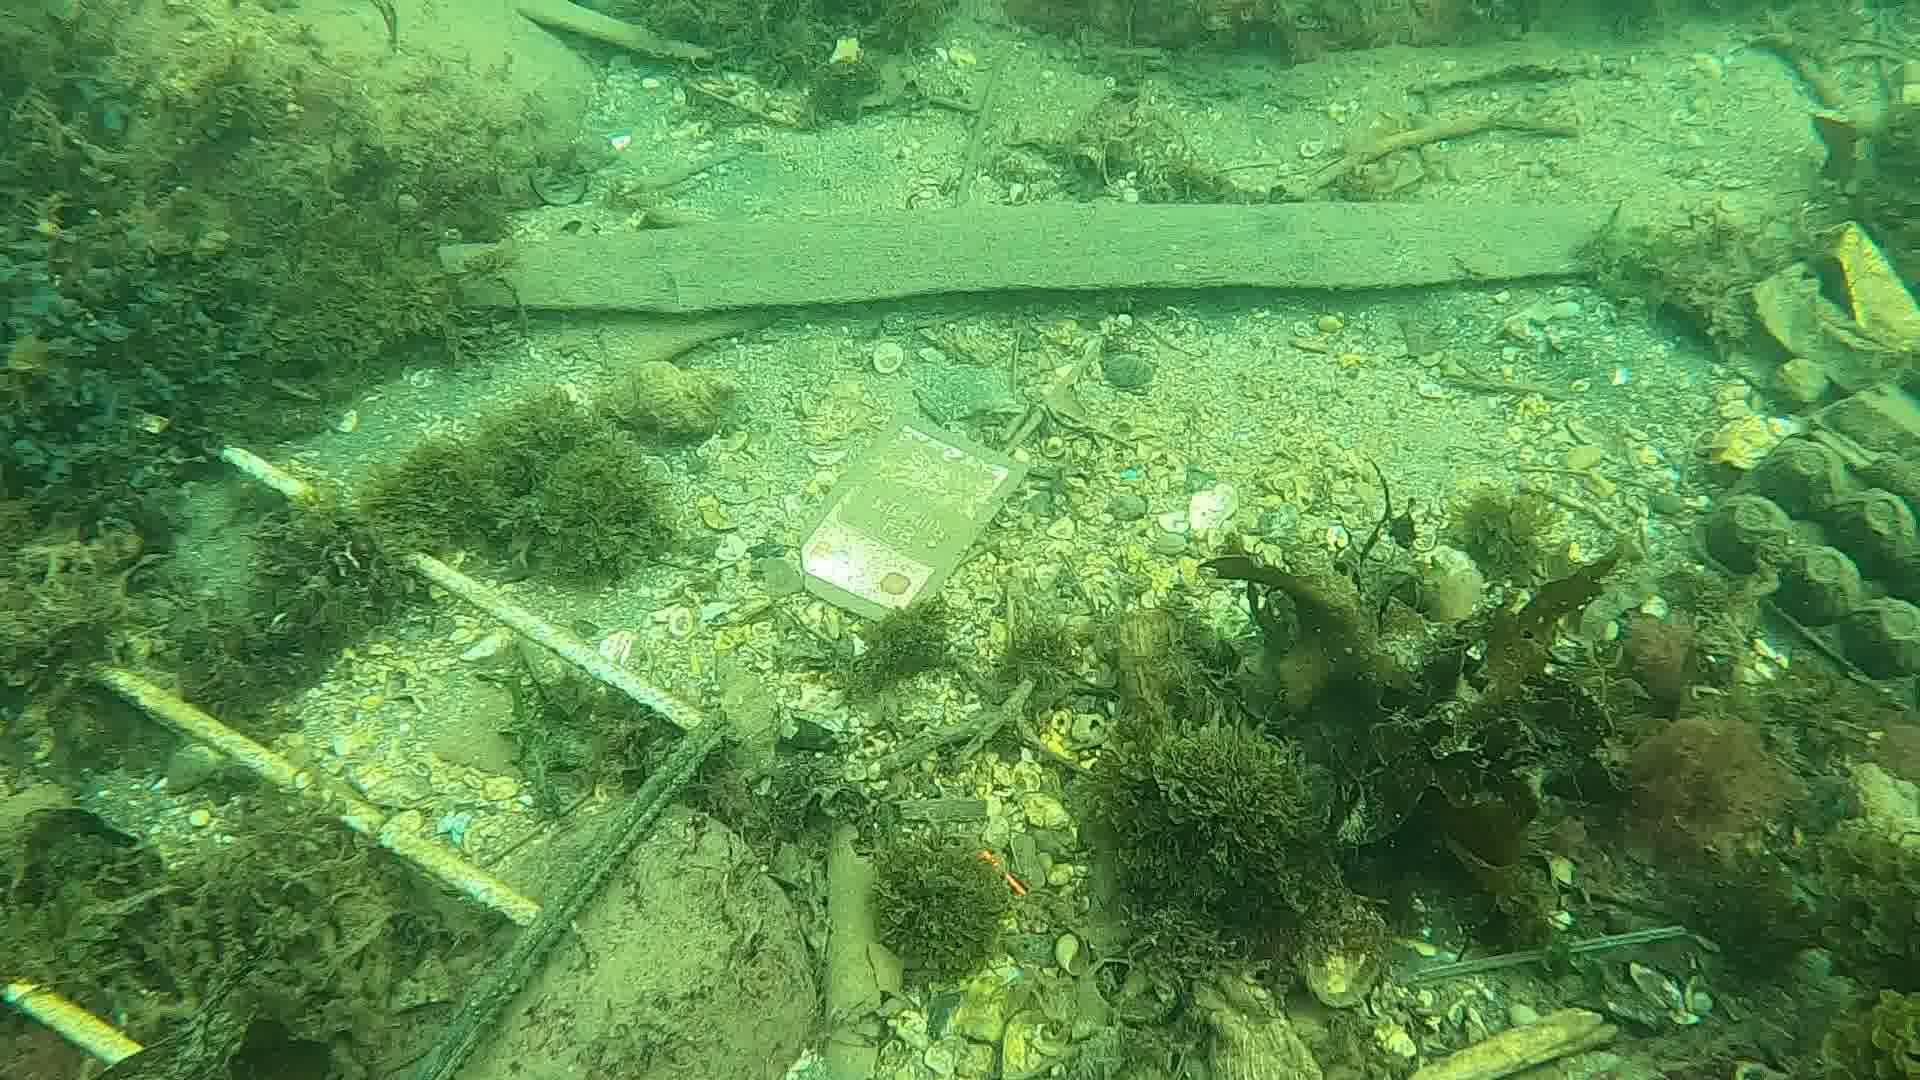wood: (433, 195, 1780, 316)
